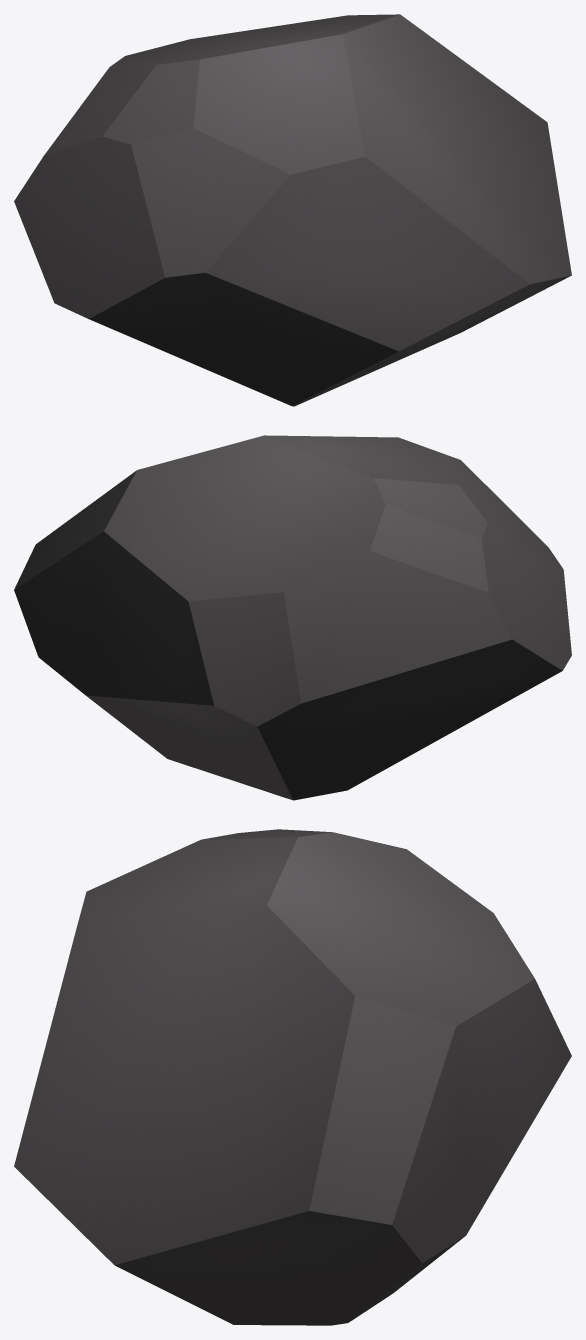
The model's file is LargeSize_RockDark.fbx.
3 views of the same model, one above another, from view 1: azimuth 30°, elevation 25°; view 2: azimuth 150°, elevation 25°; view 3: azimuth 270°, elevation 25° (orthographic). The views are drawn at different scales.
Parts seen in each view (by area): view 1: LargeSize_RockDark; view 2: LargeSize_RockDark; view 3: LargeSize_RockDark.
Boxes of the visible parts, box(x1,y1,x2,y2) form: LargeSize_RockDark: box(14, 14, 571, 406); LargeSize_RockDark: box(14, 435, 571, 800); LargeSize_RockDark: box(14, 829, 571, 1325).
Size of the model in its own units: 4.98 by 2.84 by 3.97.
Materials: 1 (1 with a texture image).
